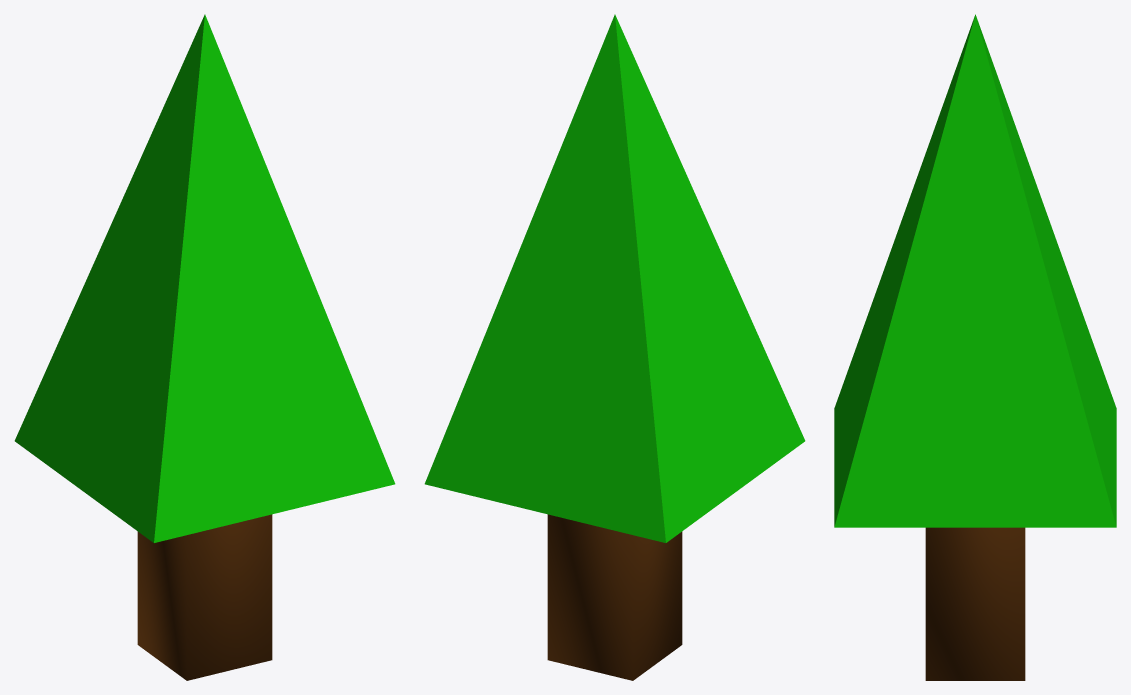
The model's file is Tree.glb.
3 views of the same model, side by side, from view 1: azimuth 30°, elevation 25°; view 2: azimuth 150°, elevation 25°; view 3: azimuth 270°, elevation 25° (orthographic).
Visible parts, largest first — view 1: Liscie, Pien; view 2: Liscie, Pien; view 3: Liscie, Pien.
Part boxes in pixels (x1,y1,x2,y2): Liscie: (14,14,395,542); Pien: (137,514,272,680); Liscie: (424,14,805,542); Pien: (547,514,682,680); Liscie: (834,14,1116,527); Pien: (925,527,1025,680).
Size of the model in its own units: 0.9234 by 2.33 by 0.9234.
Materials: 2 (2 with a texture image).
